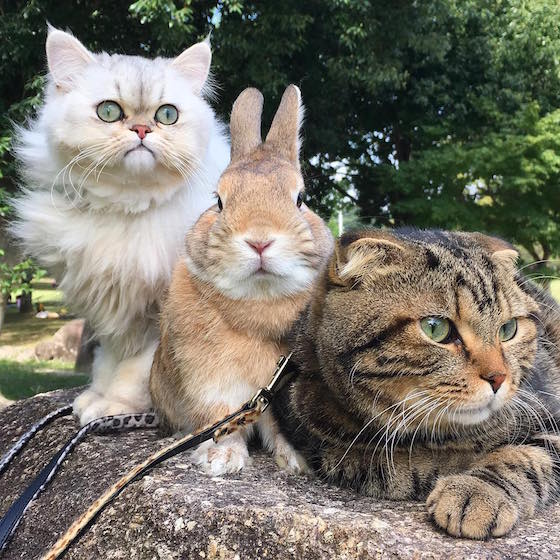cat: (282, 214, 560, 560), (6, 19, 218, 439)
rabbit: (159, 81, 345, 466)
